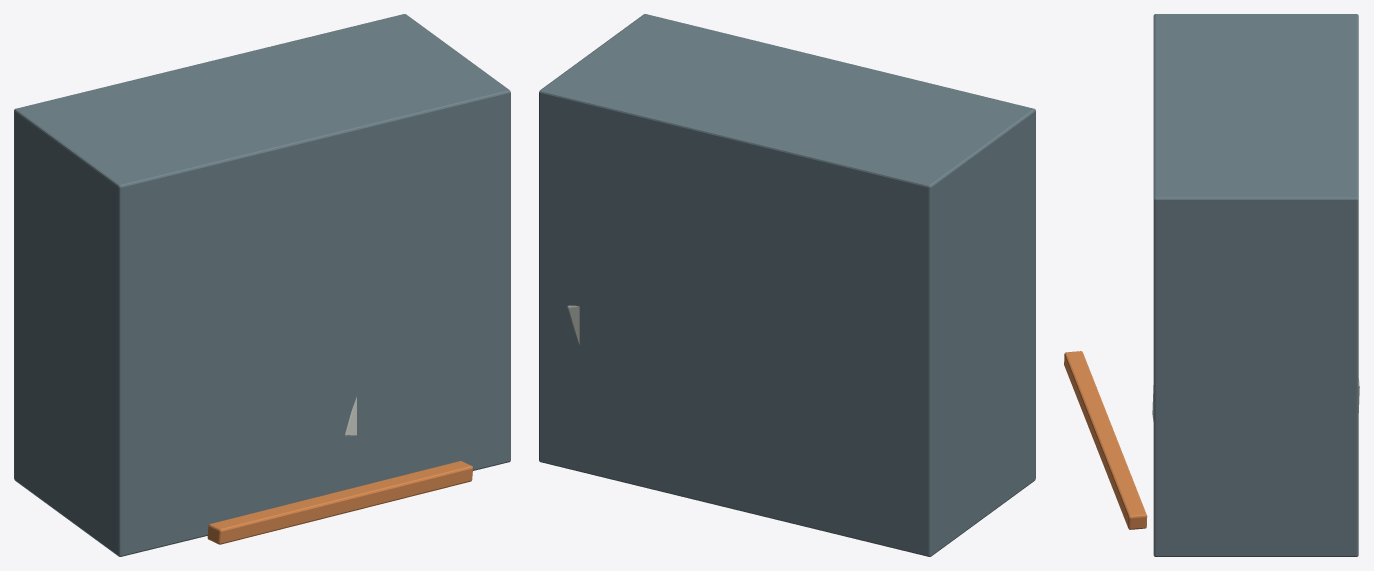
The model's file is micro_reactor_exchanger_d2.glb.
3 views of the same model, side by side, from view 1: azimuth 30°, elevation 25°; view 2: azimuth 150°, elevation 25°; view 3: azimuth 270°, elevation 25° (orthographic). The views are drawn at different scales.
Parts seen in each view (by area): view 1: Exchanger frame.006, Fallen heat fin.002; view 2: Exchanger frame.006; view 3: Exchanger frame.006, Fallen heat fin.002.
Part boxes in pixels (bbox=[...]): Exchanger frame.006: bbox=[14, 14, 510, 556]; Fallen heat fin.002: bbox=[207, 461, 472, 544]; Exchanger frame.006: bbox=[539, 14, 1035, 556]; Exchanger frame.006: bbox=[1153, 14, 1358, 556]; Fallen heat fin.002: bbox=[1064, 351, 1147, 529].
Size of the model in its own units: 3.2 by 2.9 by 2.16.
